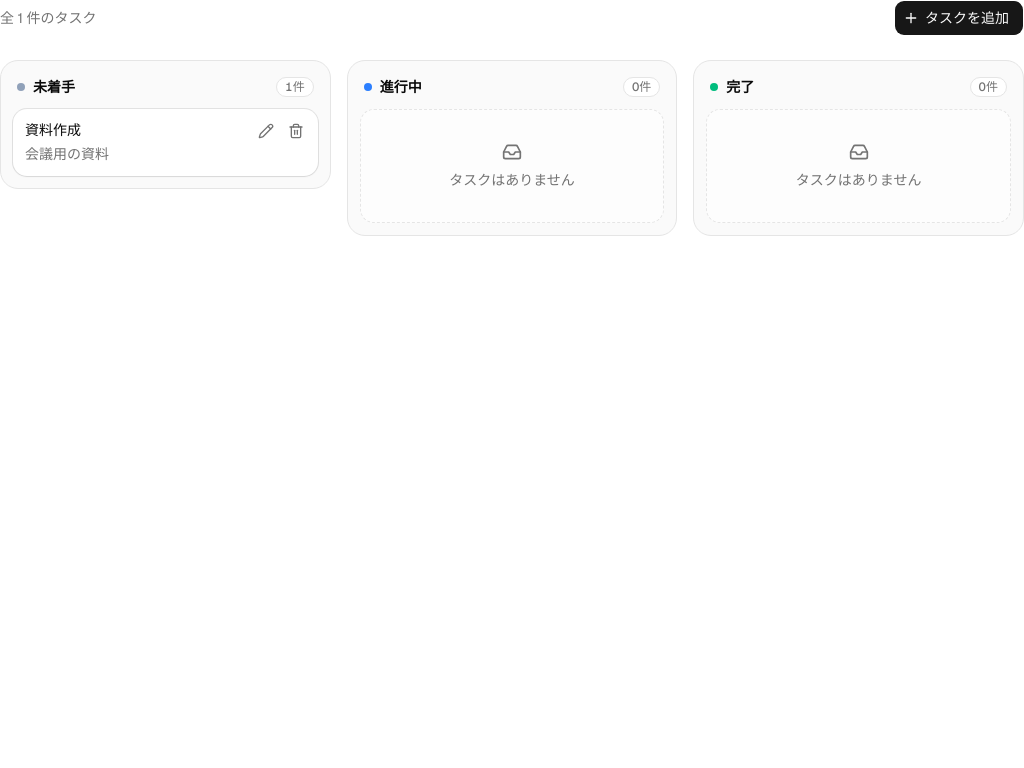
KanbanBoard › 削除 › 確認ダイアログでキャンセルすると、削除せずにタスクを残す
Click the button named "「資料作成」を削除" at (296, 131), box [282,117,310,145]
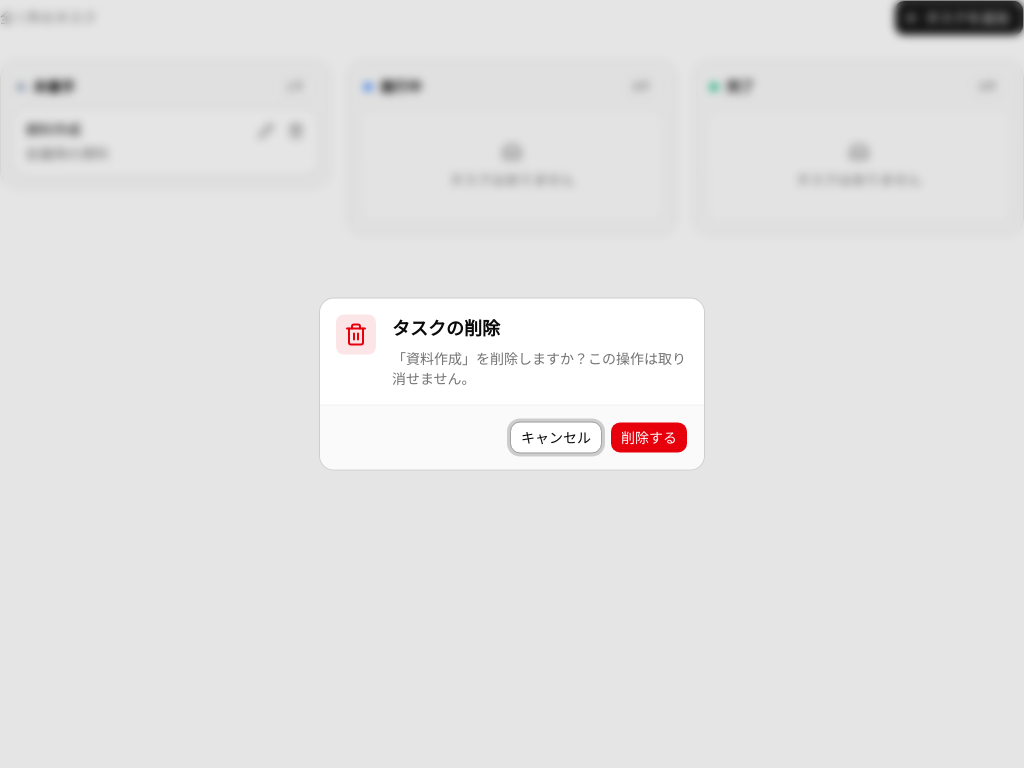
Click the button "キャンセル" at (556, 438), box [510,422,602,454]
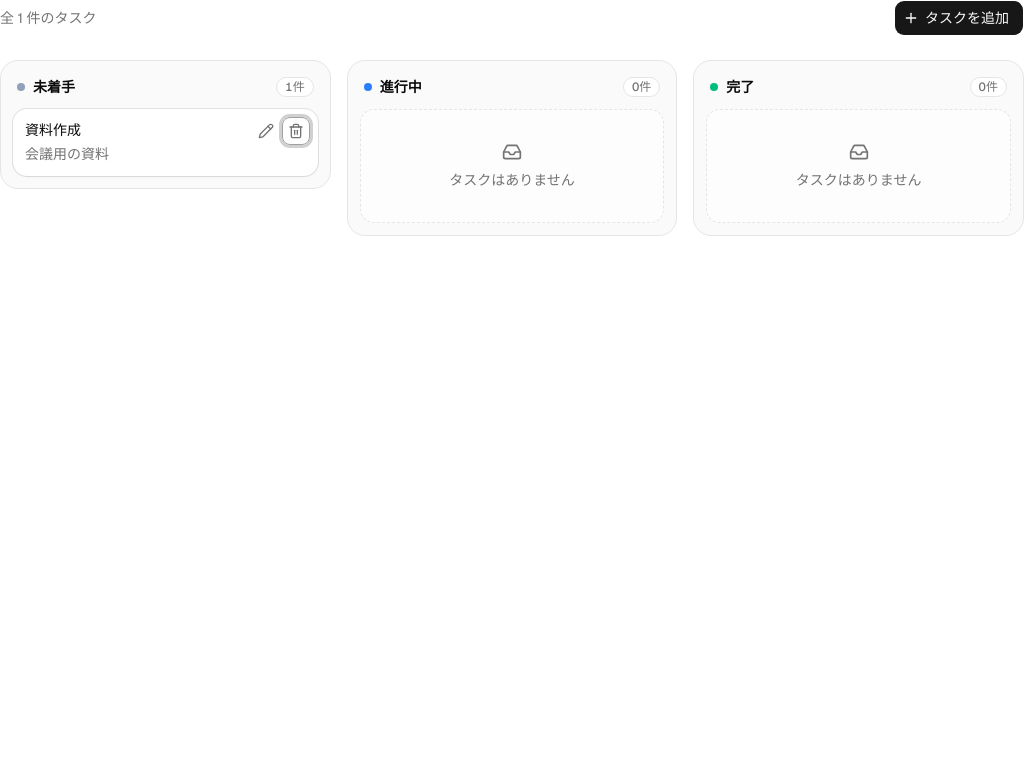
Expected: the heading "資料作成" is shown, [25,121,81,139]
Expected: the dialog is gone
